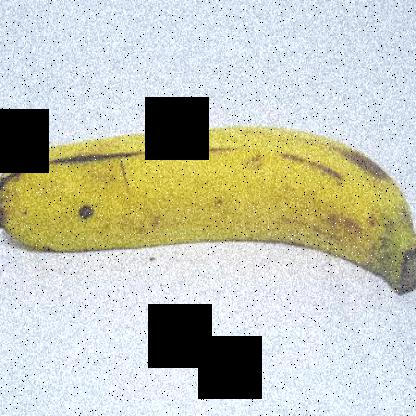ripe: (0, 103, 415, 314)
